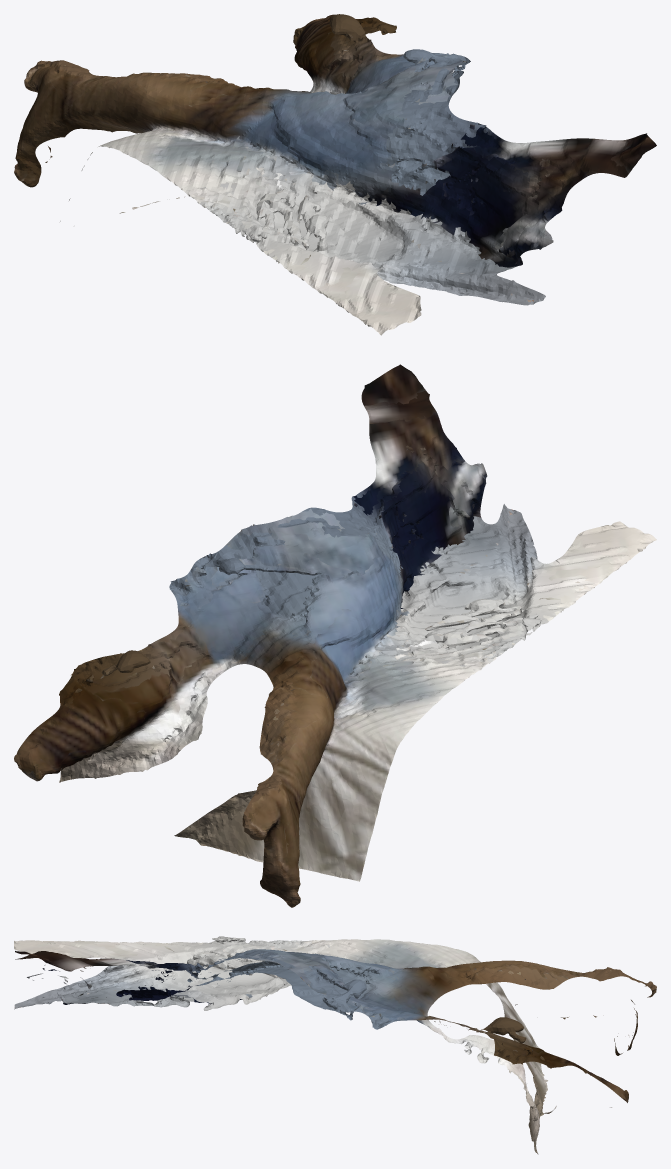
The picture shows the model from 3 angles, top to bottom: view 1: azimuth 30°, elevation 25°; view 2: azimuth 150°, elevation 25°; view 3: azimuth 270°, elevation 25°; orthographic projection. The views are drawn at different scales.
Bounding box in the file's own units: 0.7068 × 0.528 × 1.49.
Materials: 1 (1 with a texture image).
